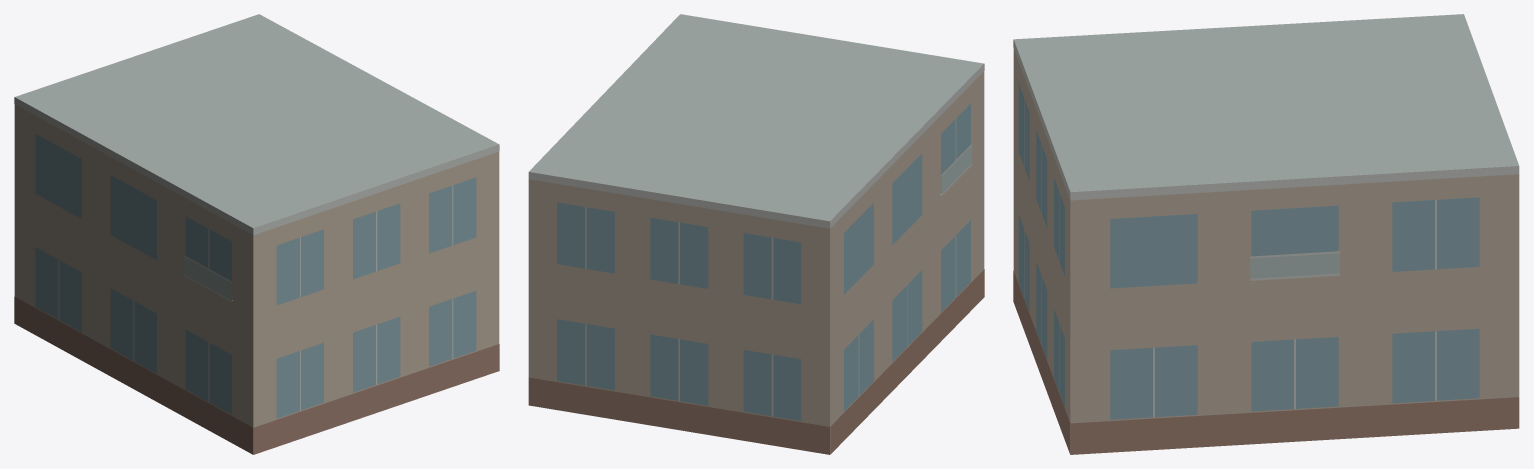
The model's file is survey-upis-32746692.glb.
The picture shows the model from 3 angles, left to right: view 1: azimuth 30°, elevation 25°; view 2: azimuth 150°, elevation 25°; view 3: azimuth 270°, elevation 25°; orthographic projection. The views are drawn at different scales.
Visible parts, largest first — view 1: survey-upis-32746692.tmp; view 2: survey-upis-32746692.tmp; view 3: survey-upis-32746692.tmp.
Part boxes in pixels (x1,y1,x2,y2): survey-upis-32746692.tmp: (14,14,499,454); survey-upis-32746692.tmp: (528,14,984,454); survey-upis-32746692.tmp: (1013,14,1519,454).
Bounding box in the file's own units: 11.36 × 7.8 × 13.63.
